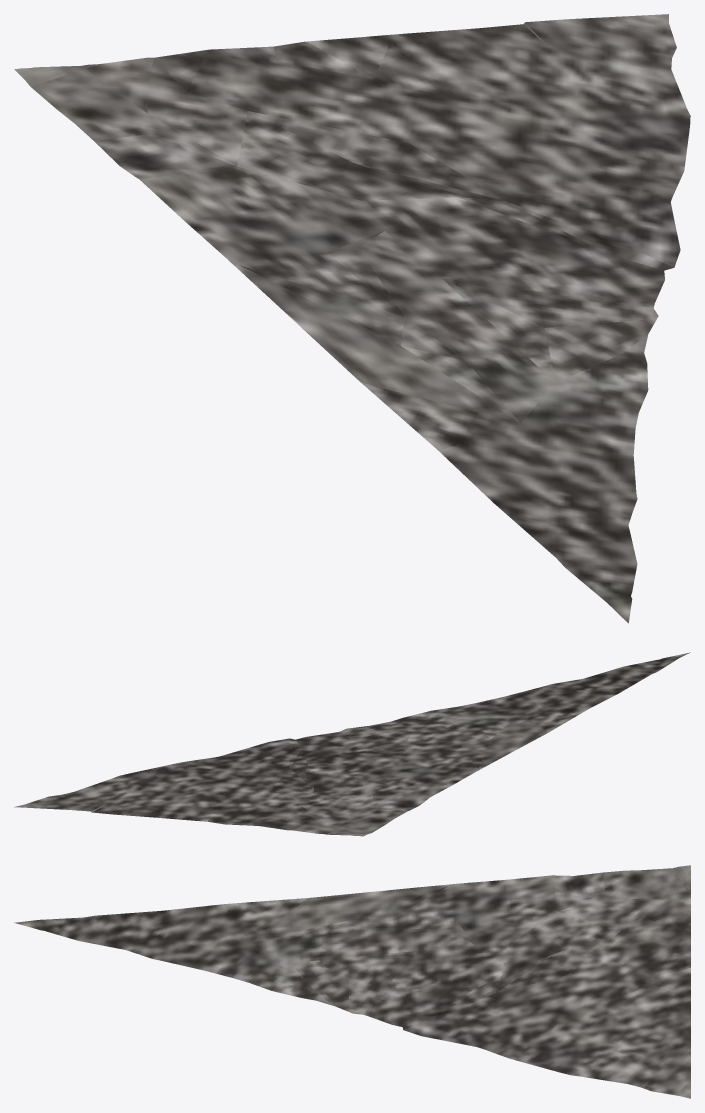
3 renders of one model, top to bottom at view 1: azimuth 30°, elevation 25°; view 2: azimuth 150°, elevation 25°; view 3: azimuth 270°, elevation 25°, orthographic. The views are drawn at different scales.
Size of the model in its own units: 0.4054 by 0.0619 by 0.659.
Materials: 1 (1 with a texture image).
